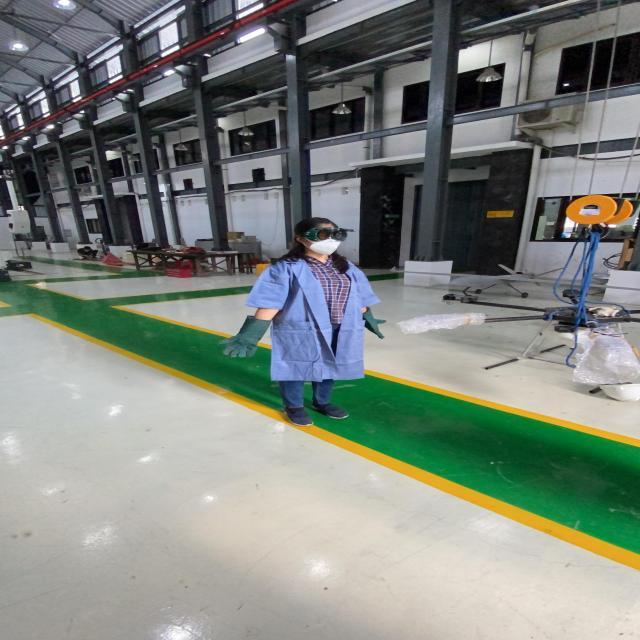glasses: (296, 225, 359, 242)
